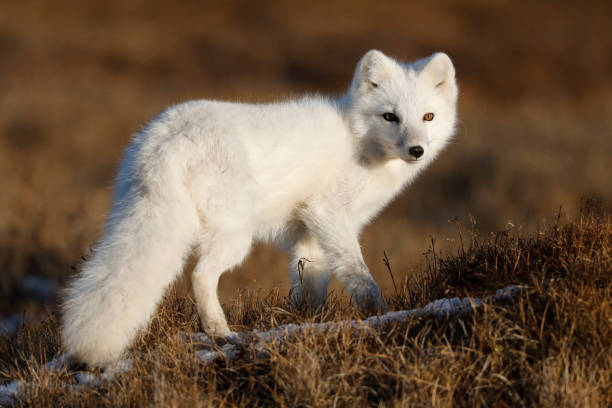arcticfox: (367, 55, 460, 188)
